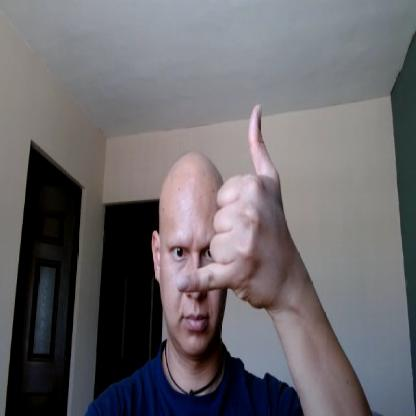Y: (177, 98, 284, 319)
